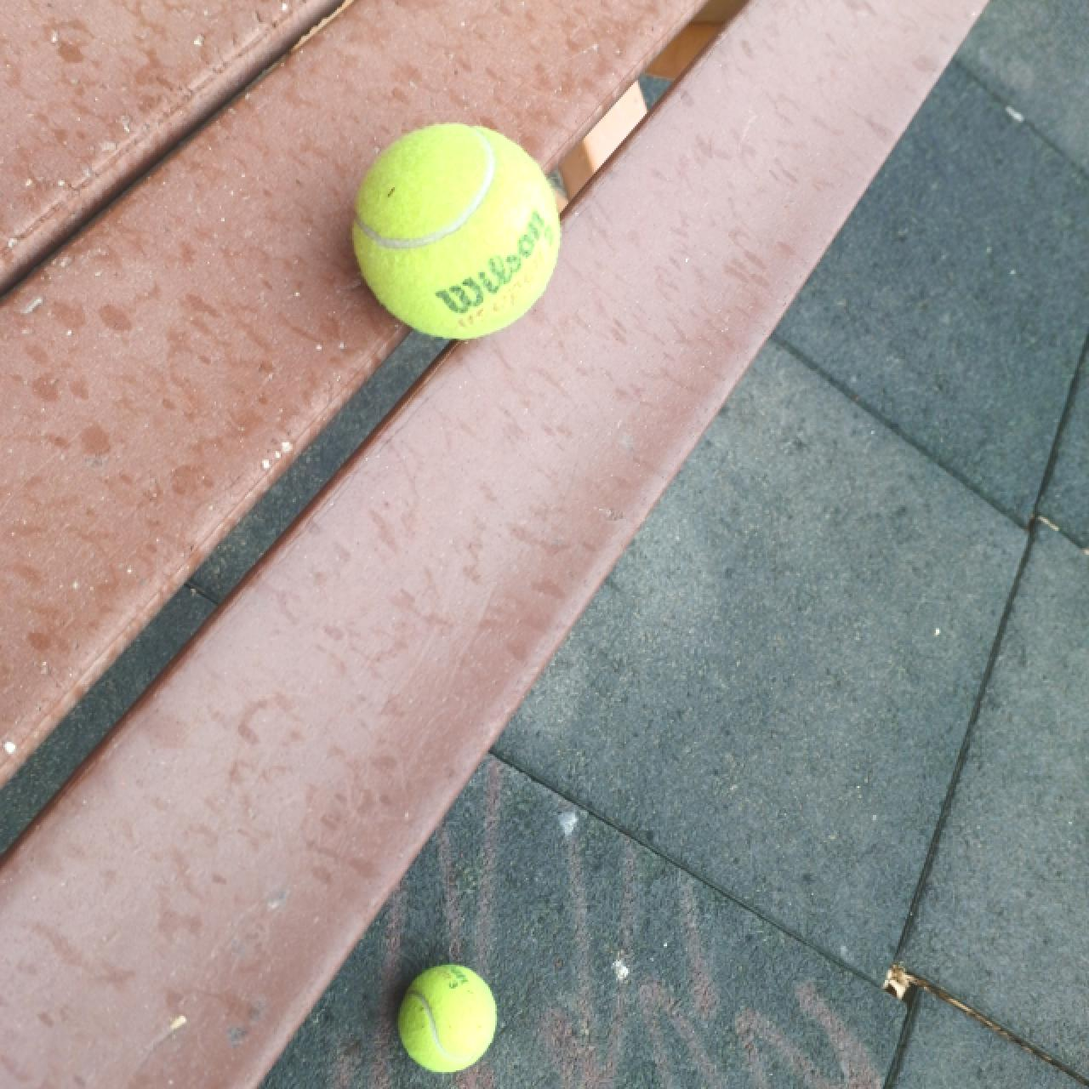tennis-ball: (350, 121, 562, 340), (399, 962, 497, 1074)
